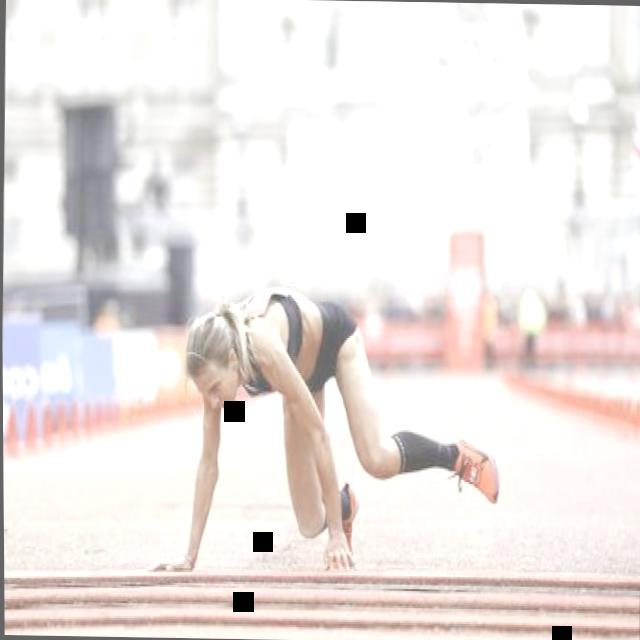Fall-Detected: (155, 258, 511, 586)
